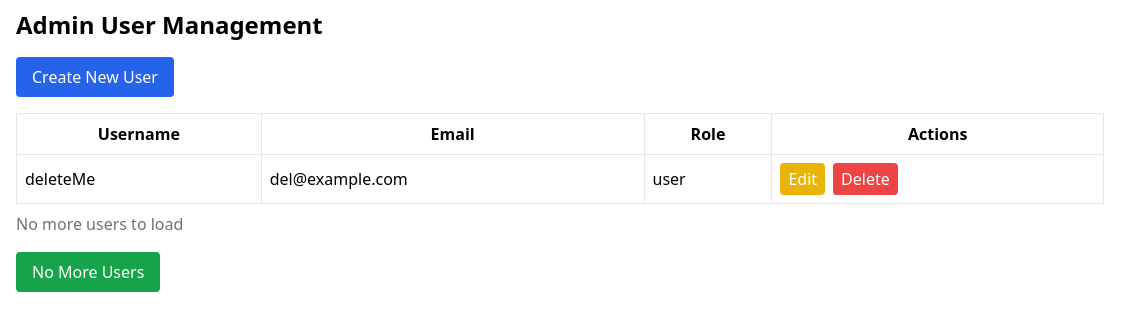
Scenario: AdminUserManagement Component › deletes a user
Expected: the text "deleteMe" is shown, left=16, top=154, right=261, bottom=204
Note: Click the Delete button.
Click the button "Delete" at (865, 179), box left=833, top=163, right=898, bottom=195
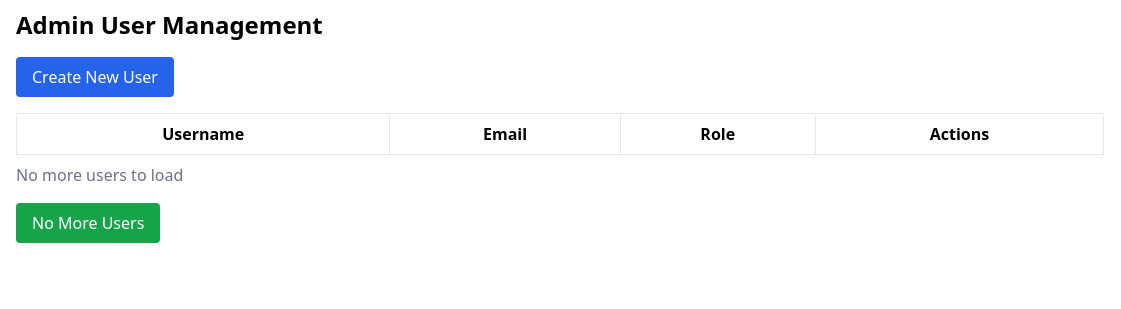
Now the text "deleteMe" is gone
